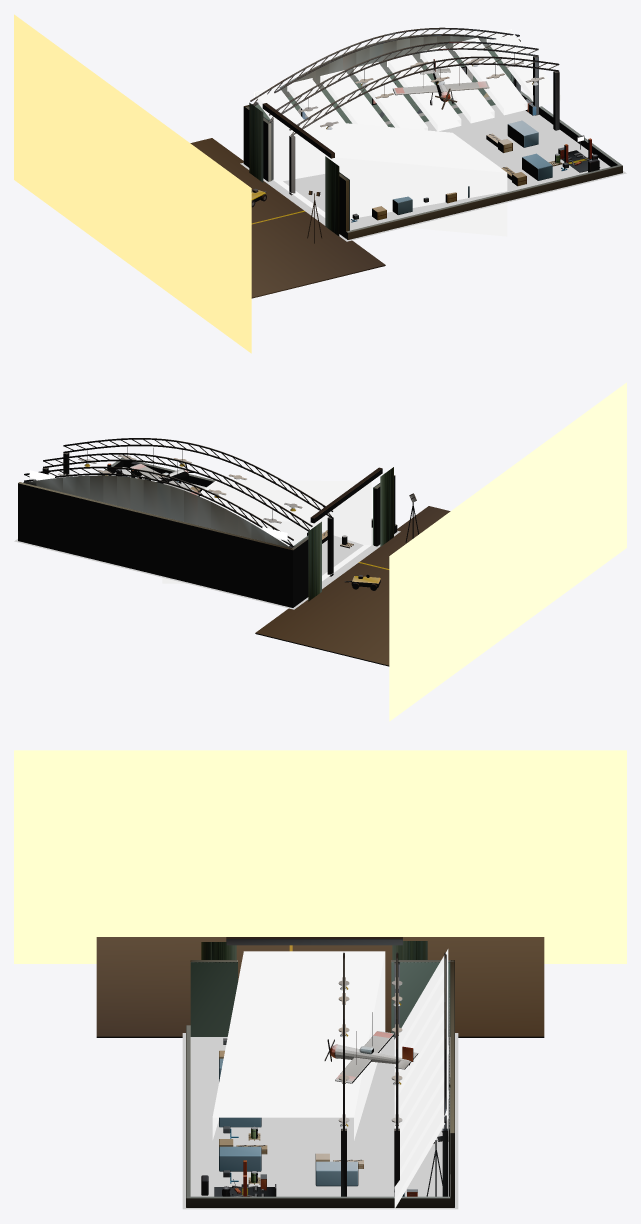
The model's file is hangar.glb.
The picture shows the model from 3 angles, top to bottom: view 1: azimuth 30°, elevation 25°; view 2: azimuth 150°, elevation 25°; view 3: azimuth 270°, elevation 25°; orthographic projection. The views are drawn at different scales.
Parts seen in each view (by area): view 1: Shell, Beam_Door, Decal_Park_L1, Decal_Park_L2, Park_L1, Decal_Walls_L2, Beam_Win_6, Beam_Win_4, Beam_Win_3, Beam_Win_5, Beam_Win_7, Props (+5 smaller); view 2: Shell, Beam_Door, Props, Decal_Walls_L2, Decal_Park_L1; view 3: Shell, Beam_Door, Decal_Walls_L2, Decal_Park_L1, Walls_L2, Decal_Park_L2, Park_L1, Props, Beam_Win_7, Beam_Win_3, Beam_Win_0, Beam_Win_4 (+6 smaller).
Boxes of the visible parts, x1,y1,x2,y2 form: Shell: [14, 14, 622, 353]; Beam_Door: [273, 117, 507, 236]; Decal_Park_L1: [283, 105, 551, 230]; Decal_Park_L2: [301, 105, 587, 230]; Park_L1: [351, 120, 568, 222]; Decal_Walls_L2: [240, 105, 626, 241]; Beam_Win_6: [454, 38, 527, 115]; Beam_Win_4: [388, 55, 461, 131]; Beam_Win_3: [354, 62, 427, 130]; Beam_Win_5: [421, 46, 494, 123]; Beam_Win_7: [487, 30, 560, 106]; Props: [251, 59, 536, 243]; Shell: [18, 382, 626, 721]; Beam_Door: [162, 479, 371, 583]; Props: [129, 448, 418, 590]; Decal_Walls_L2: [14, 467, 400, 609]; Decal_Park_L1: [322, 531, 372, 575]; Shell: [14, 750, 626, 1207]; Beam_Door: [212, 951, 385, 1140]; Decal_Walls_L2: [182, 1033, 458, 1209]; Decal_Park_L1: [210, 1072, 450, 1192]; Walls_L2: [190, 962, 450, 1141]; Decal_Park_L2: [201, 1072, 448, 1192]; Park_L1: [219, 1038, 363, 1186]; Props: [324, 1012, 442, 1196]; Beam_Win_7: [394, 1095, 448, 1208]; Beam_Win_3: [394, 1011, 448, 1117]; Beam_Win_0: [394, 949, 448, 1056]; Beam_Win_4: [394, 1032, 448, 1134].
Size of the model in its own units: 57.75 by 22.46 by 52.
